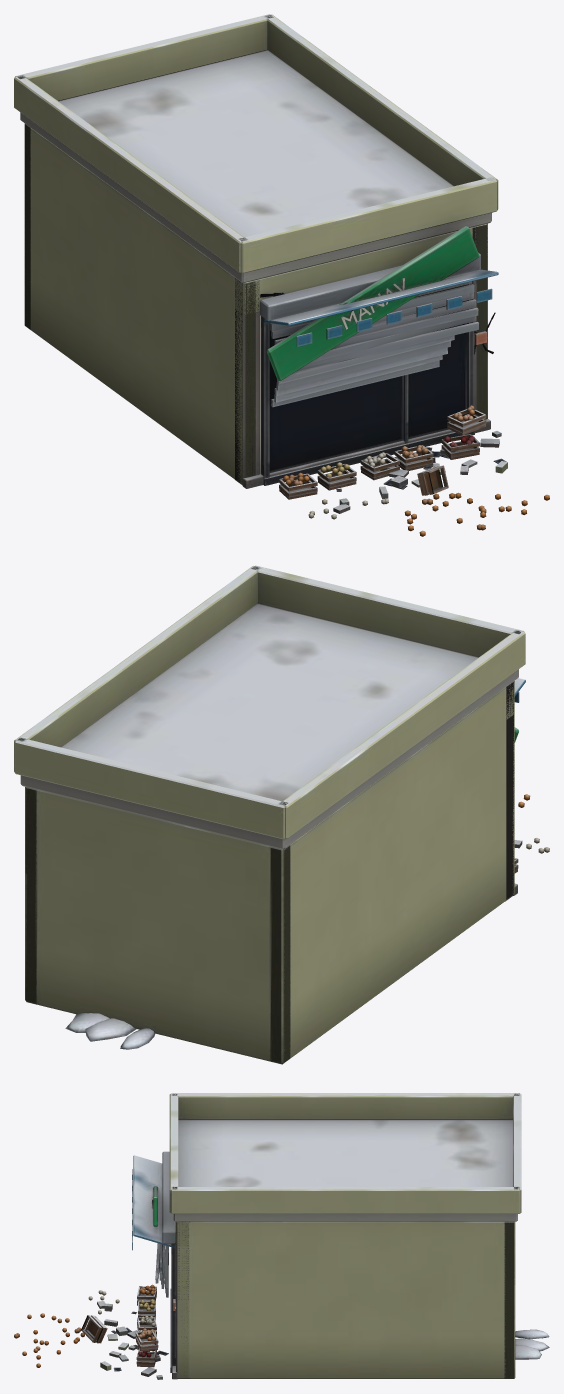
Rendered from bld_shop_manav.glb.
The picture shows the model from 3 angles, top to bottom: view 1: azimuth 30°, elevation 25°; view 2: azimuth 150°, elevation 25°; view 3: azimuth 270°, elevation 25°; orthographic projection. The views are drawn at different scales.
Visible parts, largest first — view 1: bld_shop_manav; view 2: bld_shop_manav; view 3: bld_shop_manav.
Boxes of the visible parts, x1=… form: bld_shop_manav: x1=14, y1=14, x2=549, y2=536; bld_shop_manav: x1=14, y1=565, x2=549, y2=1064; bld_shop_manav: x1=14, y1=1093, x2=549, y2=1379.
Size of the model in its own units: 4.76 by 4.4 by 11.05.
1 material, 1 textured.
